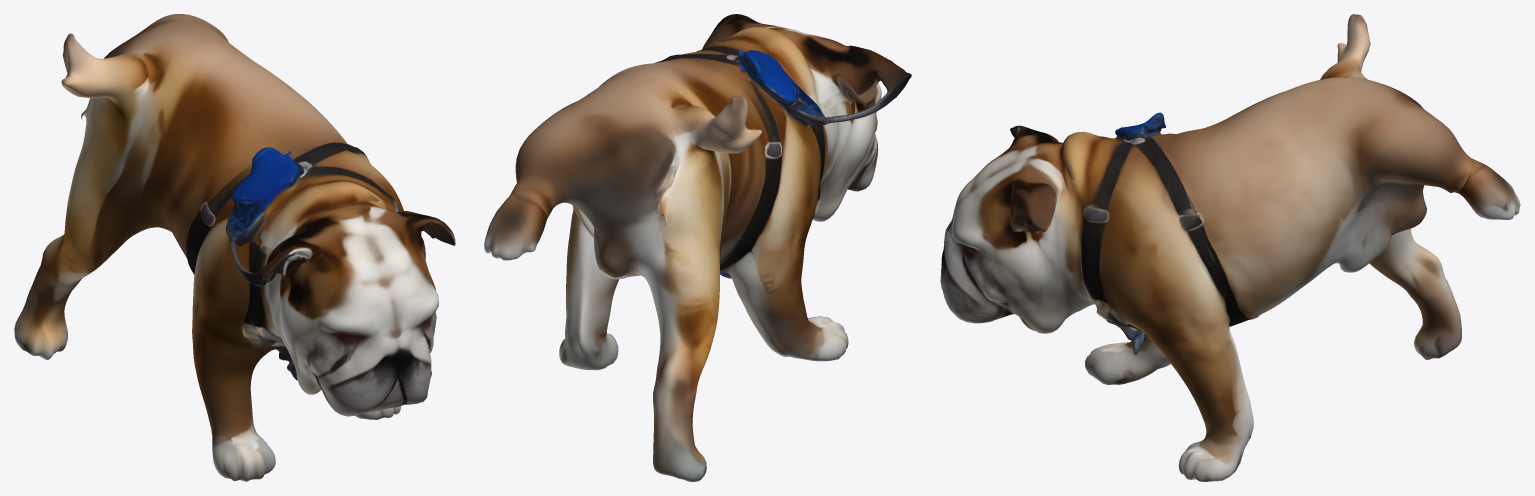
The model's file is chunky_the_urinating_english_bulldog.glb.
3 views of the same model, side by side, from view 1: azimuth 30°, elevation 25°; view 2: azimuth 150°, elevation 25°; view 3: azimuth 270°, elevation 25° (orthographic). The views are drawn at different scales.
Parts seen in each view (by area): view 1: model_0; view 2: model_0; view 3: model_0.
Boxes of the visible parts, x1,y1,x2,y2 form: model_0: (14, 14, 455, 481); model_0: (484, 14, 911, 481); model_0: (940, 14, 1520, 481).
Bounding box in the file's own units: 0.9517 × 1.29 × 1.91.
1 material, 1 textured.
